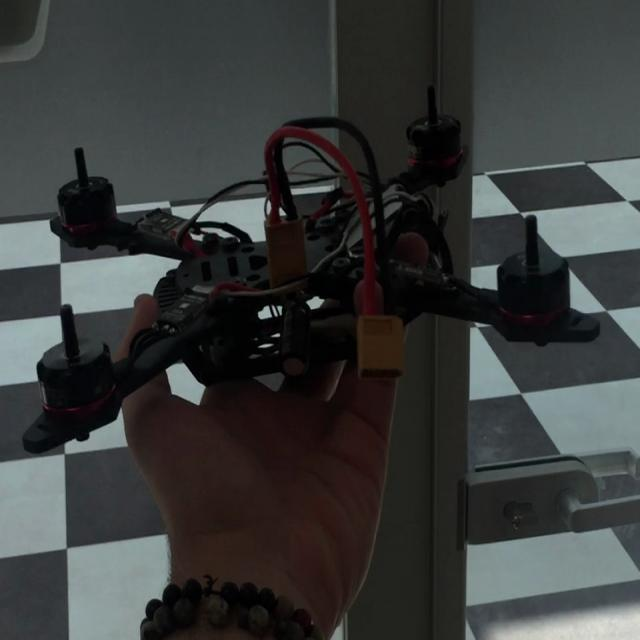drone: (6, 87, 614, 464)
